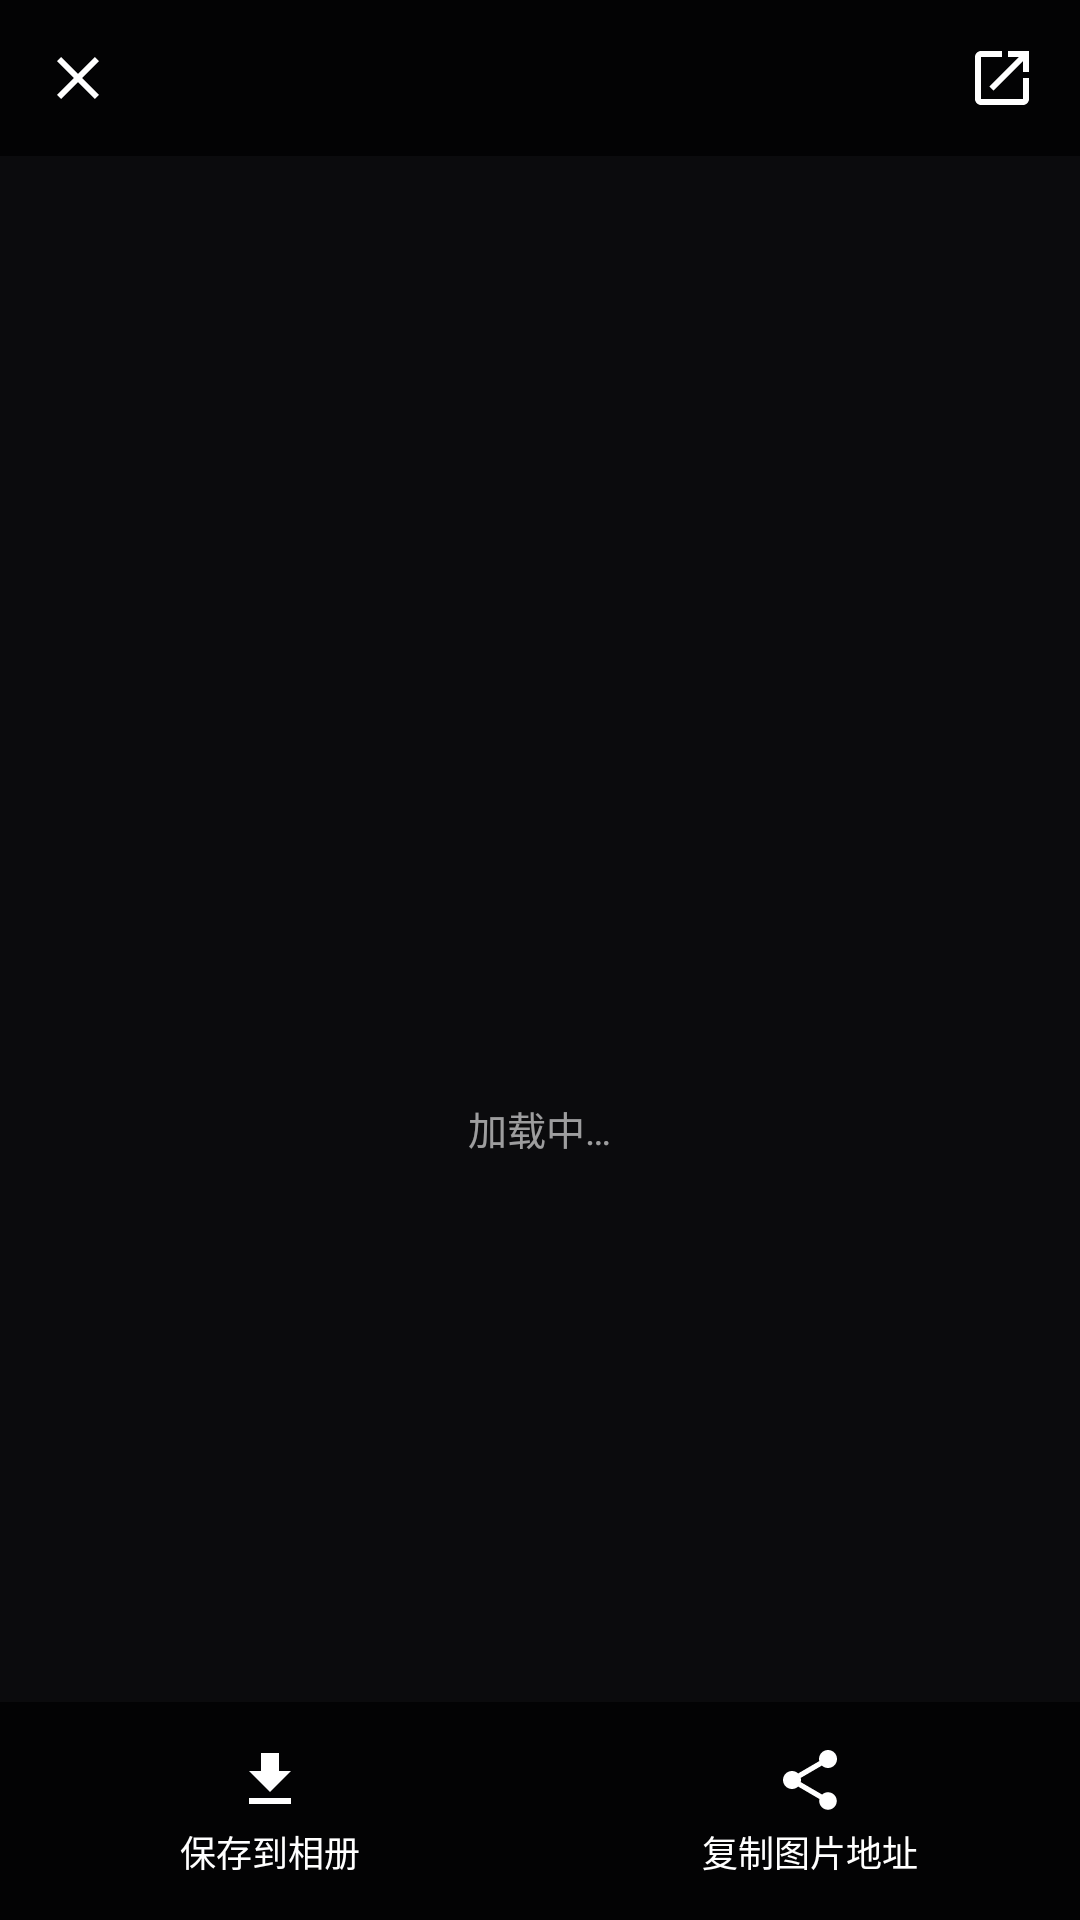

Icons on this 1080px x 1920px Android screen, each with the point to tap as point (x, y):
share: point (810, 1780)
浏览器打开: point (1002, 78)
